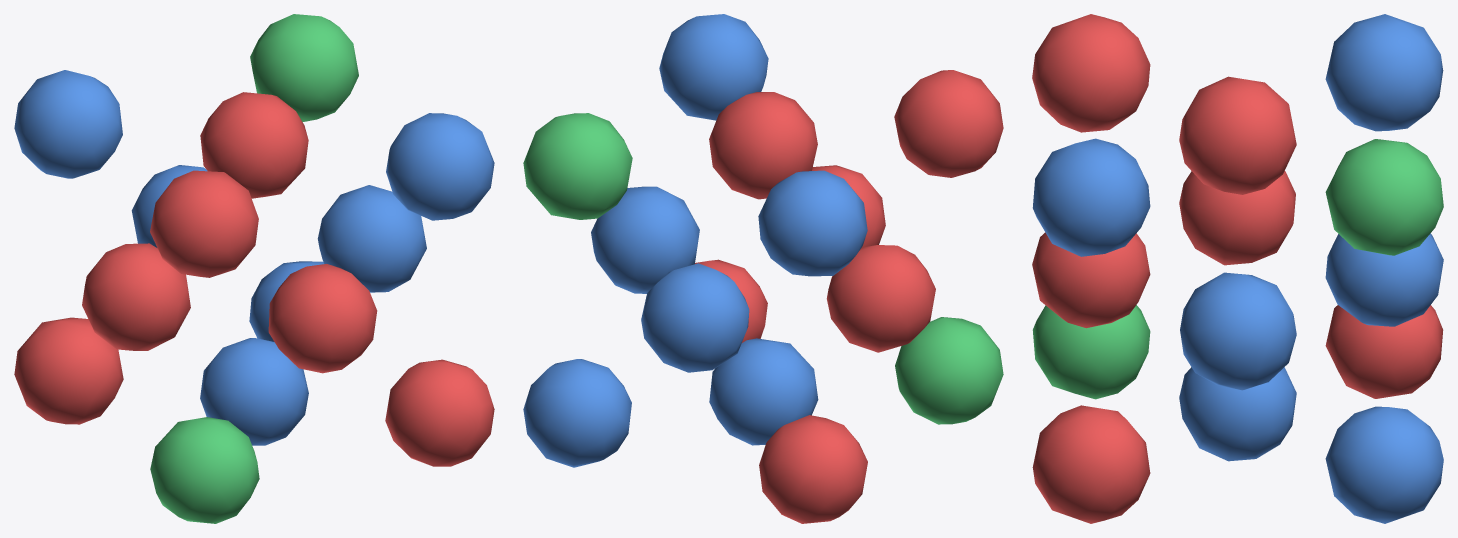
File: fcc_atom.glb
3 renders of one model, left to right at view 1: azimuth 30°, elevation 25°; view 2: azimuth 150°, elevation 25°; view 3: azimuth 270°, elevation 25°, orthographic. The views are drawn at different scales.
Visible parts, largest first — view 1: atom_10, atom_0, atom_1, atom_6, atom_4, atom_5, atom_12, atom_2, atom_9, atom_7, atom_8, atom_13 (+2 smaller); view 2: atom_6, atom_7, atom_3, atom_2, atom_4, atom_11, atom_0, atom_12, atom_9, atom_5, atom_8, atom_13 (+2 smaller); view 3: atom_4, atom_5, atom_9, atom_13, atom_3, atom_6, atom_1, atom_7, atom_8, atom_11, atom_0, atom_2 (+2 smaller).
Part boxes in pixels (x1,y1,x2,y2): atom_10: (268,264,377,373); atom_0: (150,417,259,523); atom_1: (385,359,494,466); atom_6: (14,70,122,178); atom_4: (150,170,258,277); atom_5: (386,113,494,220); atom_12: (82,243,190,350); atom_2: (14,317,123,424); atom_9: (200,92,308,198); atom_7: (250,14,358,121); atom_8: (200,338,308,445); atom_13: (317,185,426,292); atom_6: (758,170,867,276); atom_7: (523,113,632,219); atom_3: (523,359,631,467); atom_2: (759,415,867,523); atom_4: (894,70,1003,177); atom_11: (641,263,749,372); atom_0: (895,317,1003,424); atom_12: (826,245,935,352); atom_9: (709,92,817,199); atom_5: (659,14,768,120); atom_8: (709,338,818,445); atom_13: (591,186,699,293); atom_4: (1032,14,1150,132); atom_5: (1032,138,1150,256); atom_9: (1179,76,1296,194); atom_13: (1180,272,1296,390); atom_3: (1325,406,1443,523); atom_6: (1325,14,1443,131); atom_1: (1032,405,1150,523); atom_7: (1325,139,1443,255); atom_8: (1179,367,1296,461); atom_11: (1325,233,1443,326); atom_0: (1032,305,1150,399); atom_2: (1325,305,1443,398).
Size of the model in its own units: 14 by 14 by 14.
